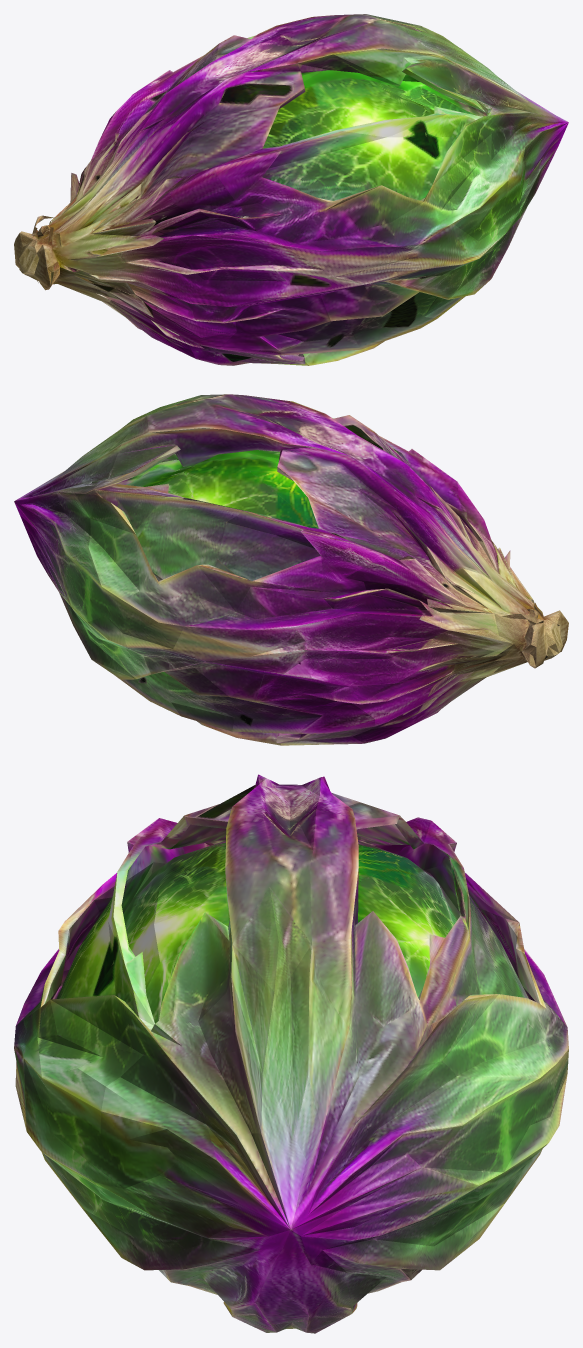
File: core.glb
The picture shows the model from 3 angles, top to bottom: view 1: azimuth 30°, elevation 25°; view 2: azimuth 150°, elevation 25°; view 3: azimuth 270°, elevation 25°; orthographic projection. The views are drawn at different scales.
Size of the model in its own units: 1.9 by 1.06 by 1.13.
Materials: 1 (1 with a texture image).
